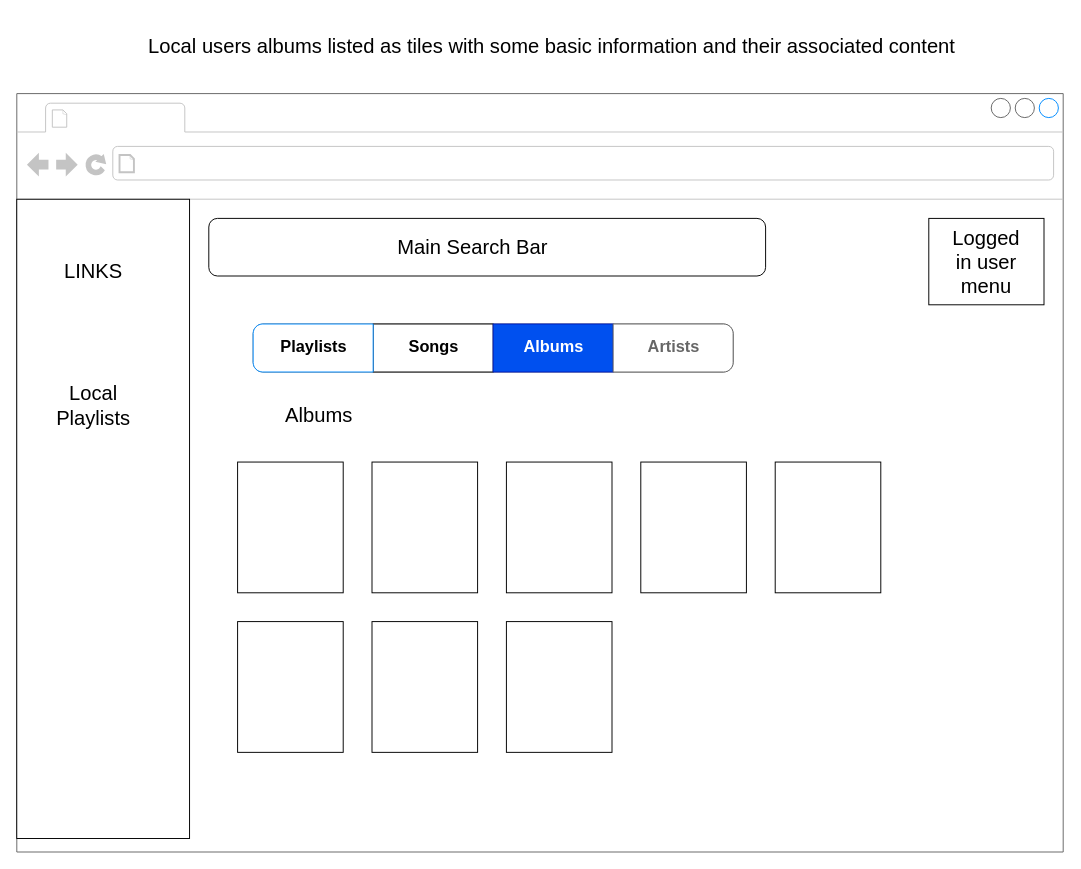
This 1081x869 diagram has some shape labels left out. The centre of each missing label's shape, as x and y in pixels:
"https://localhost:4000/collection/albums" goes at (261,163).
"Spotify Clone" goes at (126,117).
